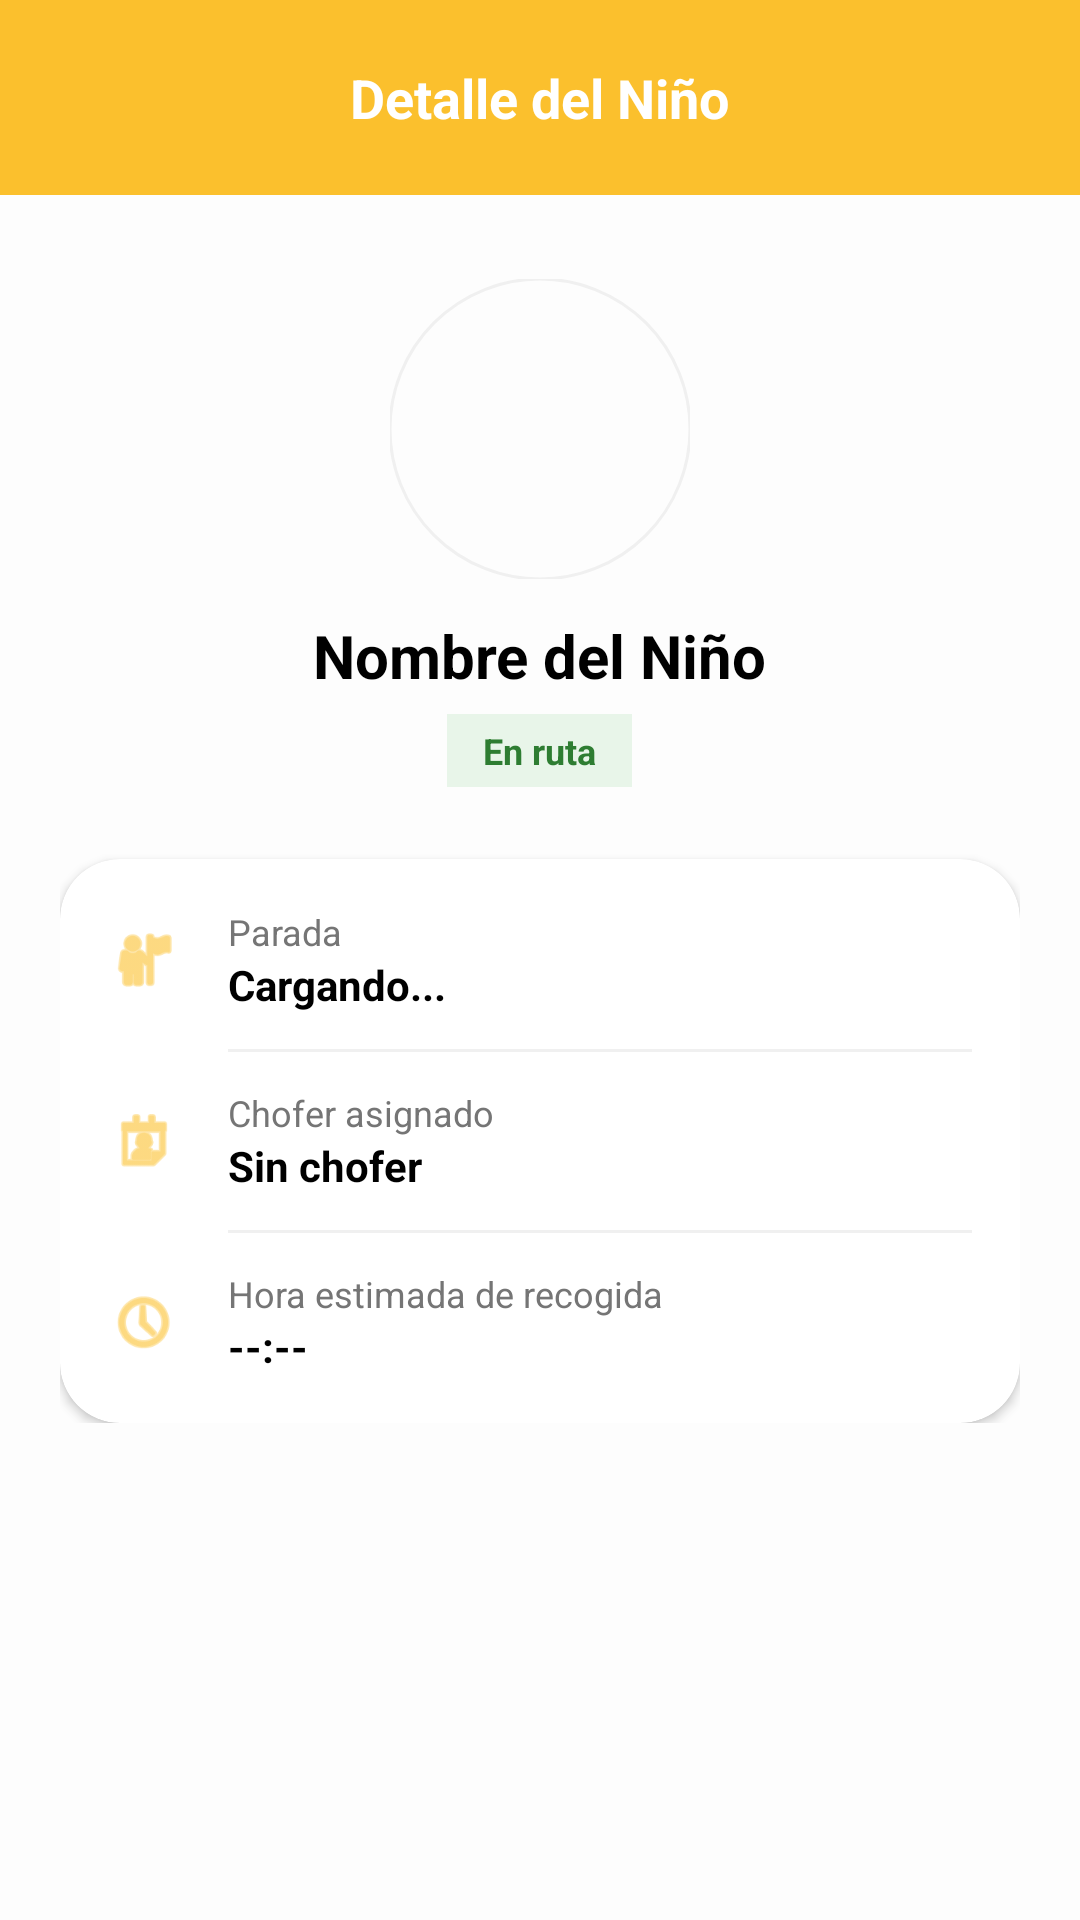

Named icons in this screenshot (1080×1920) and their bounding boxes, (x1, y1, x2, y2):
calendar: (121, 1114, 167, 1167)
myplaces: (118, 933, 172, 987)
recent history: (118, 1296, 170, 1348)
